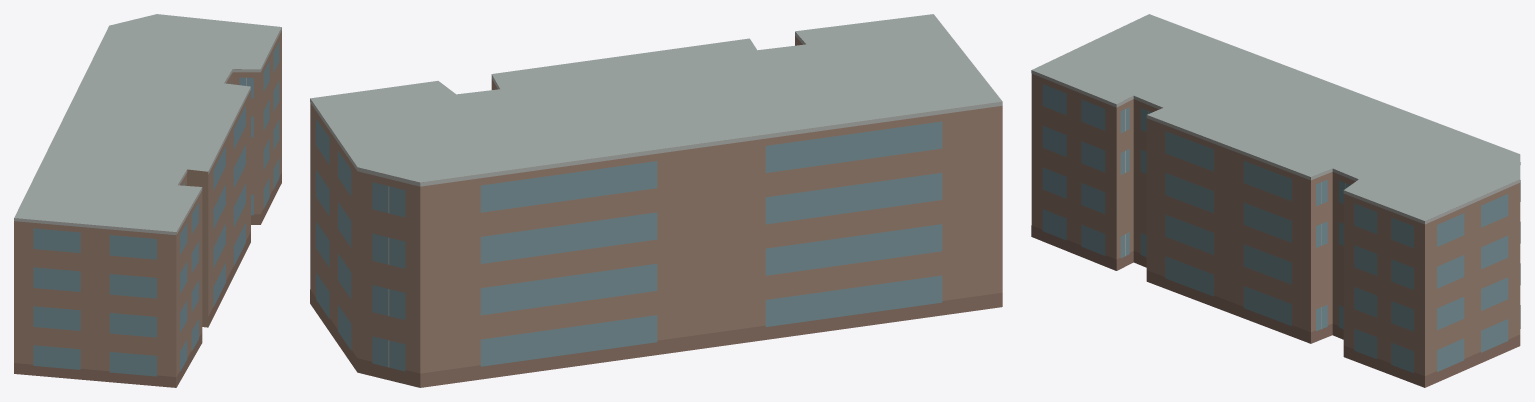
Rendered from survey-upis-32886190.glb.
3 renders of one model, left to right at view 1: azimuth 30°, elevation 25°; view 2: azimuth 150°, elevation 25°; view 3: azimuth 270°, elevation 25°, orthographic. The views are drawn at different scales.
Parts seen in each view (by area): view 1: survey-upis-32886190.tmp; view 2: survey-upis-32886190.tmp; view 3: survey-upis-32886190.tmp.
Part boxes in pixels (bbox=[...]): survey-upis-32886190.tmp: bbox=[14, 14, 281, 387]; survey-upis-32886190.tmp: bbox=[310, 14, 1002, 387]; survey-upis-32886190.tmp: bbox=[1031, 14, 1520, 387].
Bounding box in the file's own units: 32.5 × 12.2 × 32.42.
